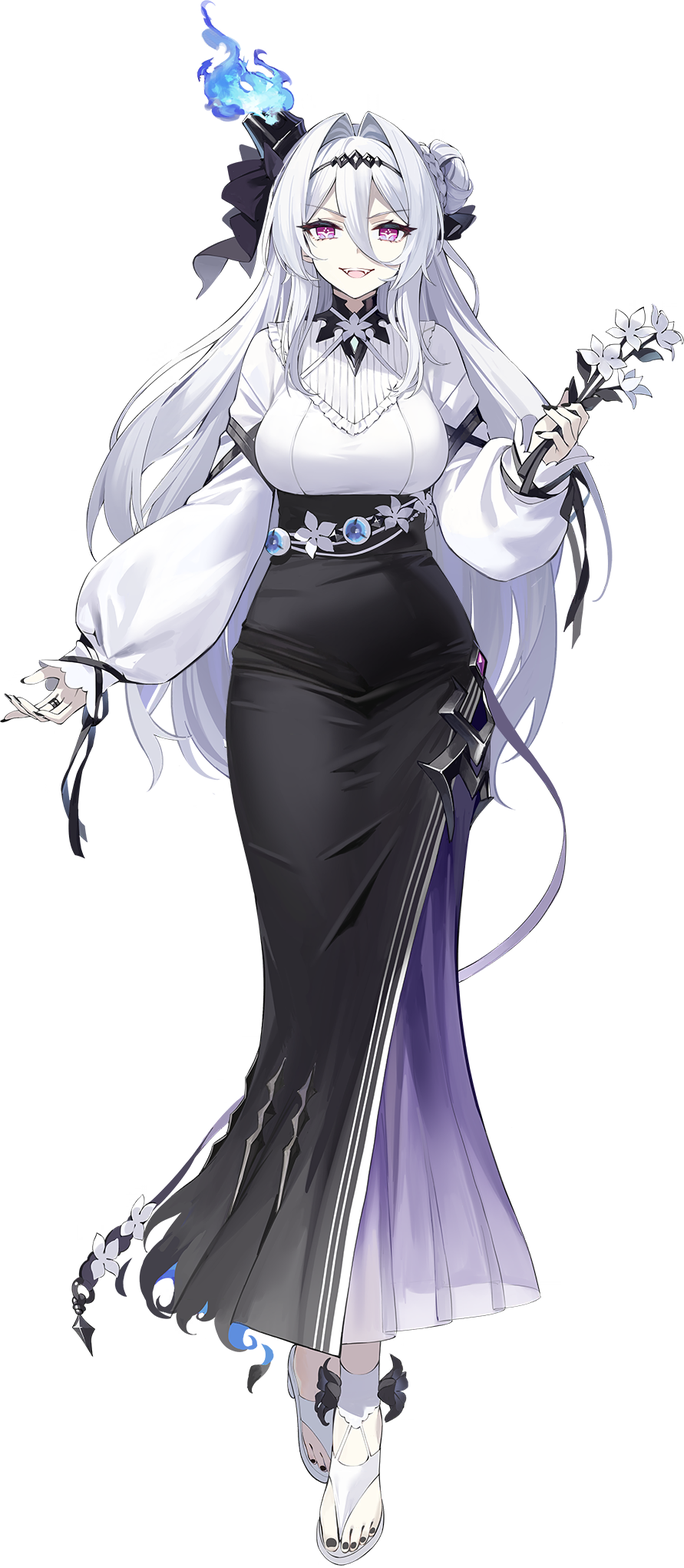person: (1, 32, 680, 1567)
